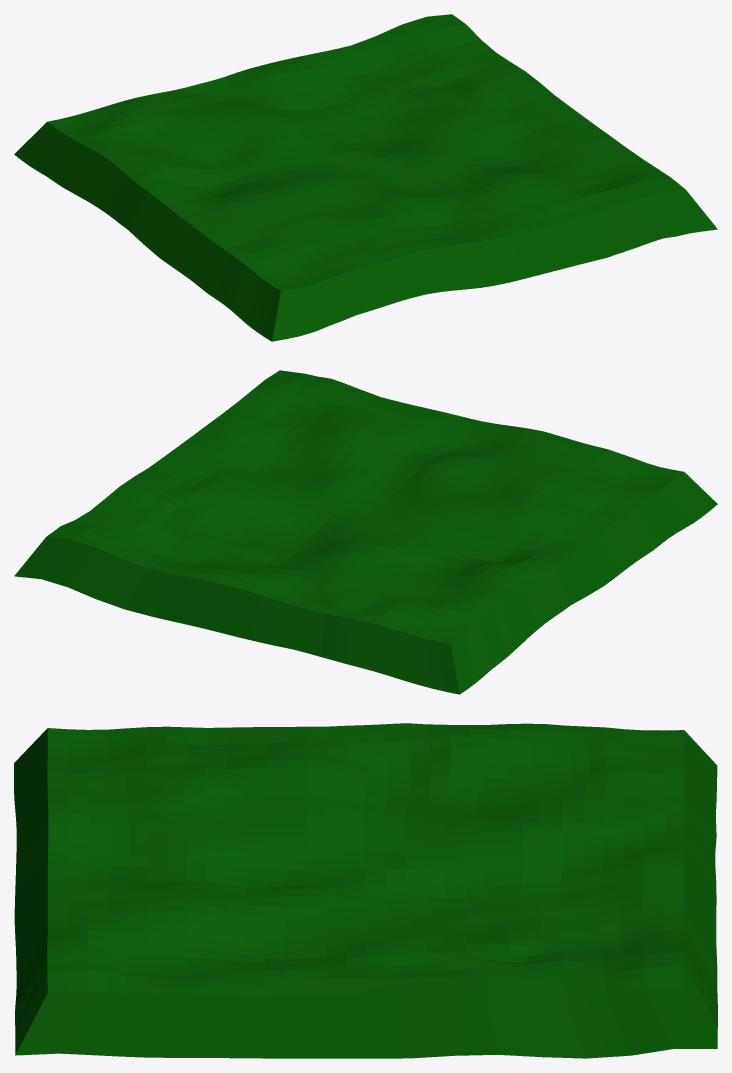
The model's file is grass.fbx.
3 renders of one model, top to bottom at view 1: azimuth 30°, elevation 25°; view 2: azimuth 150°, elevation 25°; view 3: azimuth 270°, elevation 25°, orthographic. The views are drawn at different scales.
Parts seen in each view (by area): view 1: grass; view 2: grass; view 3: grass.
Part boxes in pixels (x1,y1,x2,y2): grass: (14,14,717,341); grass: (14,370,717,694); grass: (14,723,717,1058).
Bounding box in the file's own units: 2208 × 233 × 2210.
